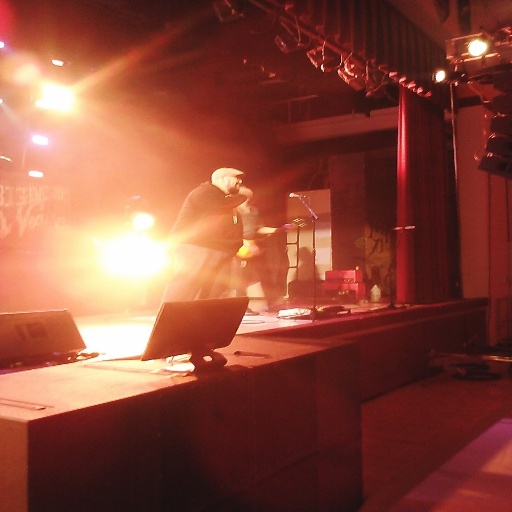hand: (235, 243, 251, 259), (246, 242, 261, 256), (237, 186, 251, 198), (277, 222, 291, 231)
